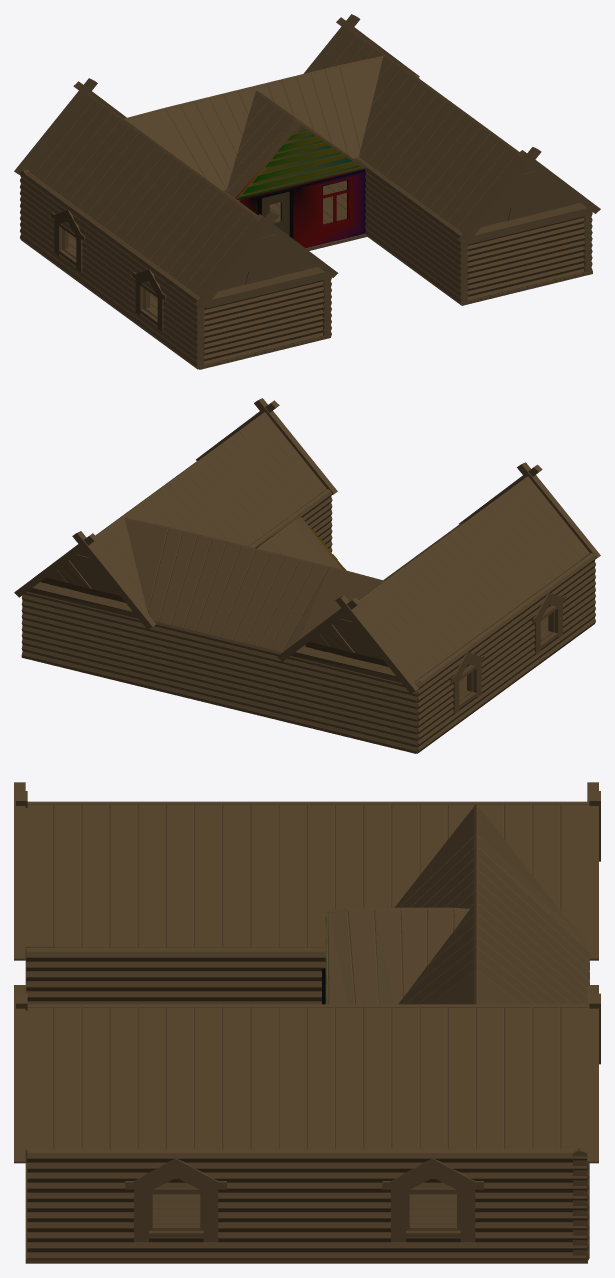
The model's file is Casa bosque 2.fbx.
The picture shows the model from 3 angles, top to bottom: view 1: azimuth 30°, elevation 25°; view 2: azimuth 150°, elevation 25°; view 3: azimuth 270°, elevation 25°; orthographic projection. The views are drawn at different scales.
Parts seen in each view (by area): view 1: Roof_01_b.001, Roof_01_b, Roof_01_b.002, Wall_Wide_01_b, Wall_Narrow_01_a, Wall_Wide_02_b.001, Wall_Narrow_02_b.001, Wall_Narrow_02_b, Roof_01_b.003, Floor_01_c.001, Floor_01_c.002, Door_01 (+3 smaller); view 2: Roof_01_b.001, Roof_01_b, Roof_01_b.002, Wall_Wide_02_b.002, Wall_Wide_01_b, Wall_Wide_02_b.003, Roof_01_b.003, Wall_Wide_02_b.001, Floor_01_c.002; view 3: Roof_01_b, Roof_01_b.001, Wall_Wide_01_b.001, Roof_01_b.002, Wall_Wide_02_b, Roof_01_b.003, Floor_01_c.001, Wall_Wide_02_b.002.
Boxes of the visible parts, x1,y1,x2,y2 form: Roof_01_b.001: [14, 78, 338, 308]; Roof_01_b: [303, 14, 600, 244]; Roof_01_b.002: [124, 56, 383, 190]; Wall_Wide_01_b: [20, 169, 204, 369]; Wall_Narrow_01_a: [235, 127, 365, 248]; Wall_Wide_02_b.001: [354, 156, 468, 305]; Wall_Narrow_02_b.001: [203, 280, 324, 364]; Wall_Narrow_02_b: [467, 216, 584, 300]; Roof_01_b.003: [225, 90, 365, 200]; Floor_01_c.001: [323, 180, 592, 305]; Floor_01_c.002: [68, 233, 330, 369]; Door_01: [262, 191, 289, 235]; Roof_01_b.001: [277, 462, 600, 693]; Roof_01_b: [14, 398, 337, 629]; Roof_01_b.002: [124, 518, 384, 652]; Wall_Wide_02_b.002: [21, 592, 222, 705]; Wall_Wide_01_b: [414, 553, 595, 753]; Wall_Wide_02_b.003: [221, 638, 421, 753]; Roof_01_b.003: [255, 517, 343, 569]; Wall_Wide_02_b.001: [248, 489, 332, 552]; Floor_01_c.002: [284, 616, 548, 753]; Roof_01_b: [14, 985, 600, 1163]; Roof_01_b.001: [14, 782, 600, 960]; Wall_Wide_01_b.001: [27, 1148, 586, 1259]; Roof_01_b.002: [394, 804, 589, 1004]; Wall_Wide_02_b: [26, 947, 325, 1004]; Roof_01_b.003: [326, 907, 469, 1004]; Floor_01_c.001: [25, 1162, 587, 1263]; Wall_Wide_02_b.002: [572, 1148, 589, 1260].
Size of the model in its own units: 1267 by 426 by 1013.
